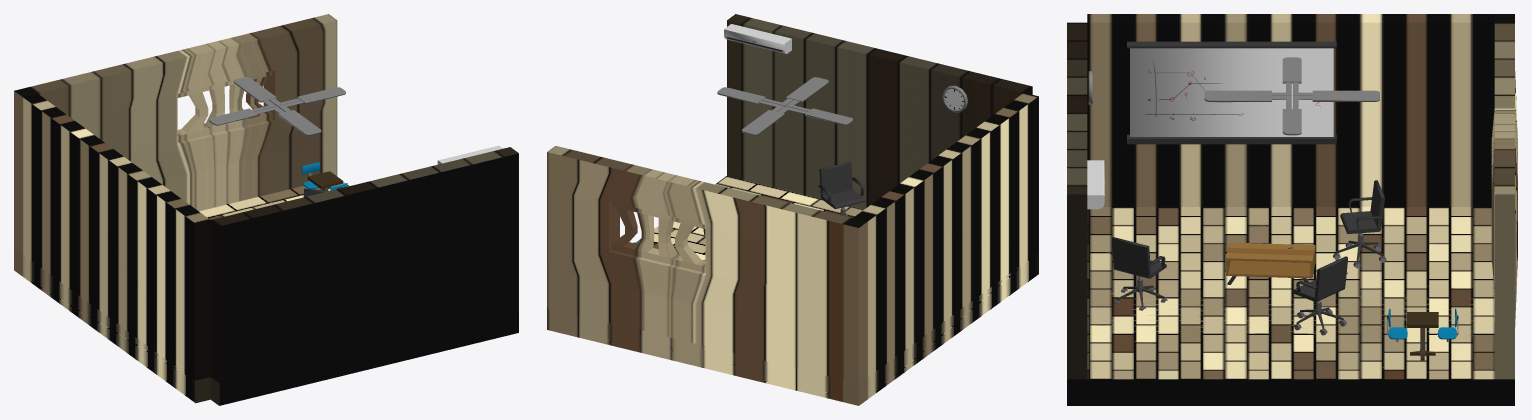
The model's file is room.glb.
3 renders of one model, left to right at view 1: azimuth 30°, elevation 25°; view 2: azimuth 150°, elevation 25°; view 3: azimuth 270°, elevation 25°, orthographic. The views are drawn at different scales.
Parts seen in each view (by area): view 1: Cube, RFan_B; view 2: Cube, RFan_B, Chair_Office_Wheel Copy.003, AirConditioner_A.001, Clock; view 3: Cube, WhiteBoard_Big.001, RFan_B, CoffeeTable.001, Chair_Office_Wheel Copy.003, Chair_Office_Wheel Copy.001, Chair_Office_Wheel Copy.002, AirConditioner_A.001, Table_Box.001.
Part boxes in pixels (x1=…): Cube: x1=14, y1=14, x2=518, y2=405; RFan_B: x1=209, y1=77, x2=345, y2=135; Cube: x1=547, y1=14, x2=1038, y2=405; RFan_B: x1=717, y1=77, x2=853, y2=135; Chair_Office_Wheel Copy.003: x1=818, y1=162, x2=865, y2=217; AirConditioner_A.001: x1=724, y1=24, x2=791, y2=53; Clock: x1=942, y1=85, x2=968, y2=112; Cube: x1=1067, y1=14, x2=1517, y2=405; WhiteBoard_Big.001: x1=1127, y1=41, x2=1336, y2=144; RFan_B: x1=1204, y1=57, x2=1379, y2=135; CoffeeTable.001: x1=1226, y1=242, x2=1315, y2=284; Chair_Office_Wheel Copy.003: x1=1111, y1=237, x2=1167, y2=310; Chair_Office_Wheel Copy.001: x1=1292, y1=256, x2=1347, y2=335; Chair_Office_Wheel Copy.002: x1=1333, y1=180, x2=1386, y2=268; AirConditioner_A.001: x1=1087, y1=160, x2=1104, y2=209; Table_Box.001: x1=1407, y1=312, x2=1438, y2=360.
Bounding box in the file's own units: 10.08 × 5.9 × 10.63.
Materials: 4 (4 with a texture image).
